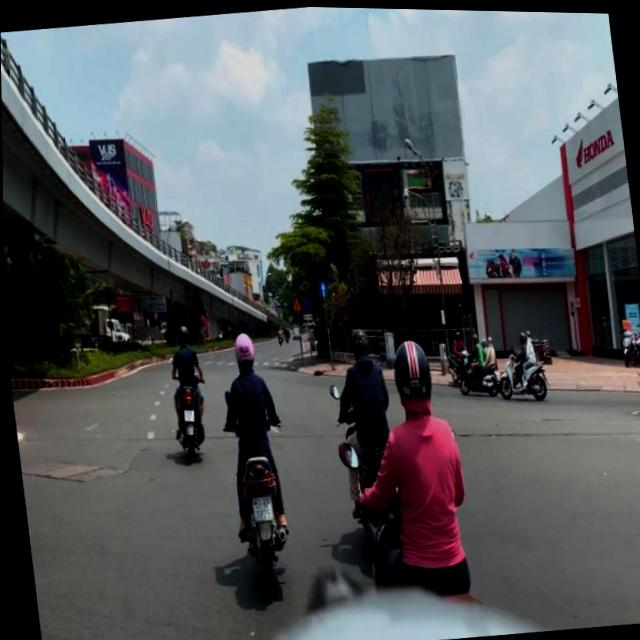Cam do xe: (299, 294, 312, 312)
Duong mot chieu: (317, 277, 327, 296)
Nguoi di bo cat ngang: (289, 293, 302, 311)
